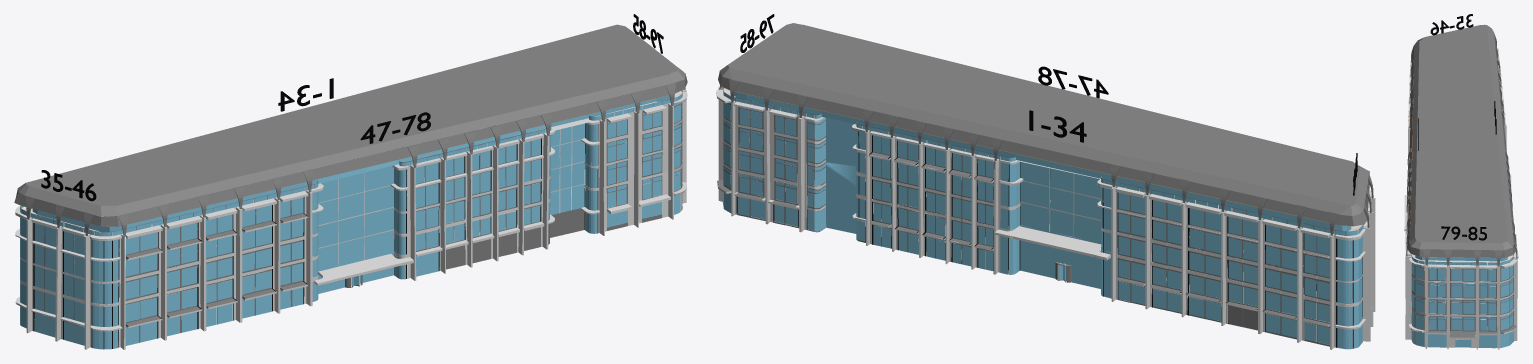
File: YorkHouse.glb
3 views of the same model, side by side, from view 1: azimuth 30°, elevation 25°; view 2: azimuth 150°, elevation 25°; view 3: azimuth 270°, elevation 25° (orthographic). The views are drawn at different scales.
Parts seen in each view (by area): view 1: York House, Drop59, Drop74, Drop77, Drop78, Drop48, Drop50, Drop54, Drop52, York House.002, Drop47, Drop63 (+28 smaller); view 2: York House, Drop20, Drop5, Drop1, Drop2, York House.001, Drop28, Drop27, Drop32, Drop31, Drop24, Drop26 (+27 smaller); view 3: York House, Drop82, Drop83, Drop81, Drop80, Drop84, Drop85, Text.001, Text.003, Drop79, York House.002.
Boxes of the visible parts, bbox=[...] form: York House: bbox=[14, 24, 687, 349]; Drop59: bbox=[318, 166, 394, 293]; Drop74: bbox=[550, 123, 584, 214]; Drop77: bbox=[607, 119, 627, 227]; Drop78: bbox=[642, 111, 662, 218]; Drop48: bbox=[140, 232, 157, 342]; Drop50: bbox=[181, 223, 197, 332]; Drop54: bbox=[256, 205, 271, 315]; Drop52: bbox=[217, 214, 232, 324]; York House.002: bbox=[314, 254, 413, 285]; Drop47: bbox=[125, 236, 139, 345]; Drop63: bbox=[425, 162, 438, 273]; York House: bbox=[716, 23, 1375, 349]; Drop20: bbox=[1020, 162, 1101, 288]; Drop5: bbox=[821, 111, 856, 233]; Drop1: bbox=[737, 107, 765, 219]; Drop2: bbox=[774, 115, 798, 226]; York House.001: bbox=[994, 226, 1110, 260]; Drop28: bbox=[1205, 211, 1220, 321]; Drop27: bbox=[1189, 208, 1204, 317]; Drop32: bbox=[1281, 228, 1296, 337]; Drop31: bbox=[1265, 224, 1280, 333]; Drop24: bbox=[1131, 195, 1145, 304]; Drop26: bbox=[1167, 203, 1181, 312]; York House: bbox=[1405, 24, 1518, 349]; Drop82: bbox=[1451, 269, 1474, 347]; Drop83: bbox=[1479, 269, 1497, 348]; Drop81: bbox=[1428, 268, 1446, 347]; Drop80: bbox=[1415, 265, 1424, 346]; Drop84: bbox=[1500, 267, 1509, 348]; Drop85: bbox=[1509, 266, 1513, 345]; Text.001: bbox=[1441, 226, 1486, 240]; Text.003: bbox=[1430, 14, 1473, 35]; Drop79: bbox=[1411, 264, 1414, 343]; York House.002: bbox=[1404, 195, 1407, 231].
Size of the model in its own units: 155 by 37.57 by 32.44.
